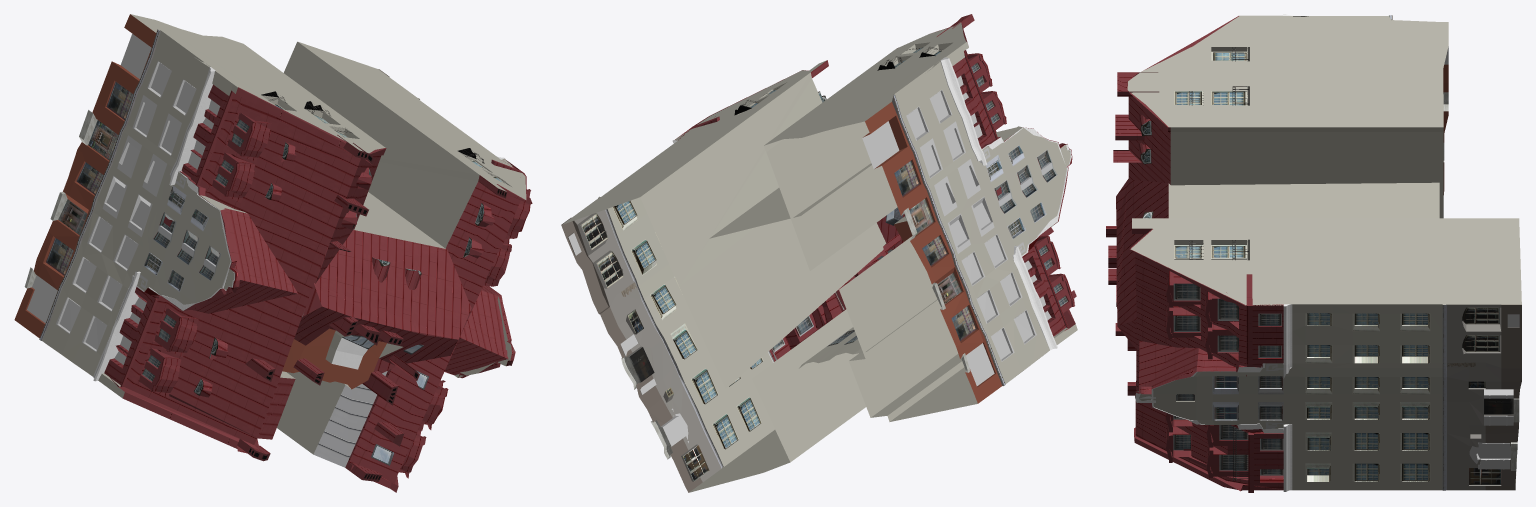
The model's file is Pikk_40-origo.obj.
3 renders of one model, left to right at view 1: azimuth 30°, elevation 25°; view 2: azimuth 150°, elevation 25°; view 3: azimuth 270°, elevation 25°, orthographic. The views are drawn at different scales.
Parts seen in each view (by area): view 1: Pikk_40; view 2: Pikk_40; view 3: Pikk_40.
Part boxes in pixels (left/top/right/bottom): Pikk_40: left=14, top=14, right=532, bottom=492; Pikk_40: left=561, top=14, right=1077, bottom=492; Pikk_40: left=1106, top=14, right=1521, bottom=492.
Bounding box in the file's own units: 35.19 × 34 × 31.91.
